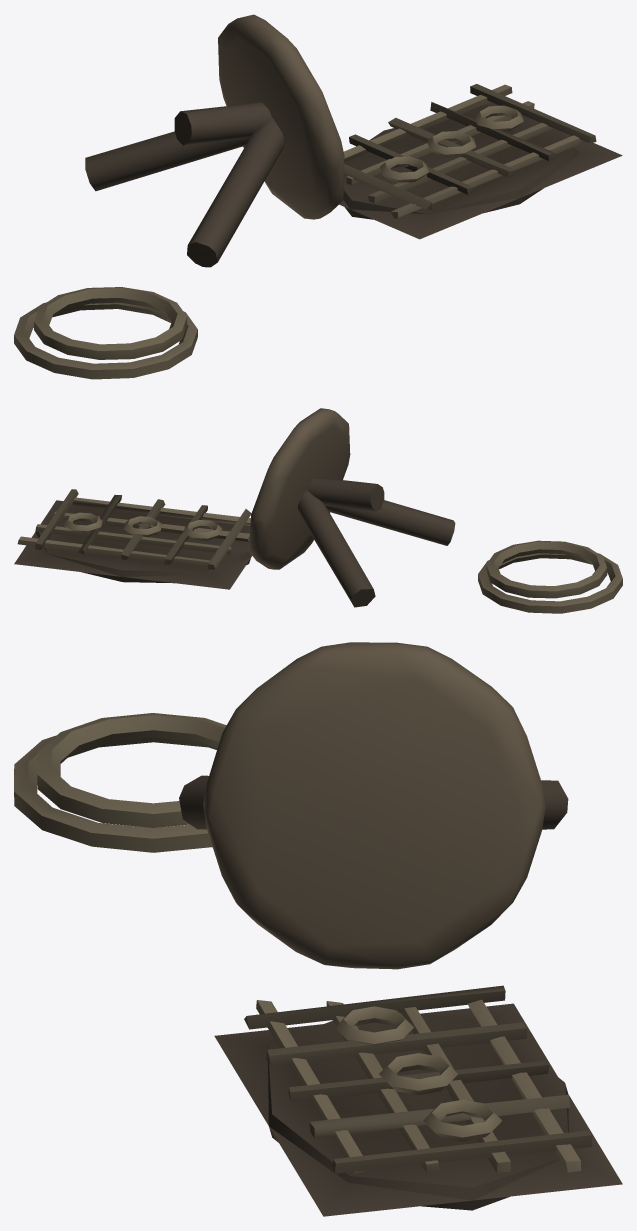
File: mender_stool_c_lod1.glb
3 views of the same model, one above another, from view 1: azimuth 30°, elevation 25°; view 2: azimuth 150°, elevation 25°; view 3: azimuth 270°, elevation 25° (orthographic). The views are drawn at different scales.
Parts seen in each view (by area): view 1: Surface.001; view 2: Surface.001; view 3: Surface.001.
Boxes of the visible parts, x1,y1,x2,y2 form: Surface.001: (14,14,622,379); Surface.001: (14,408,622,613); Surface.001: (14,642,622,1216).
Bounding box in the file's own units: 2.65 × 0.8231 × 1.38.
